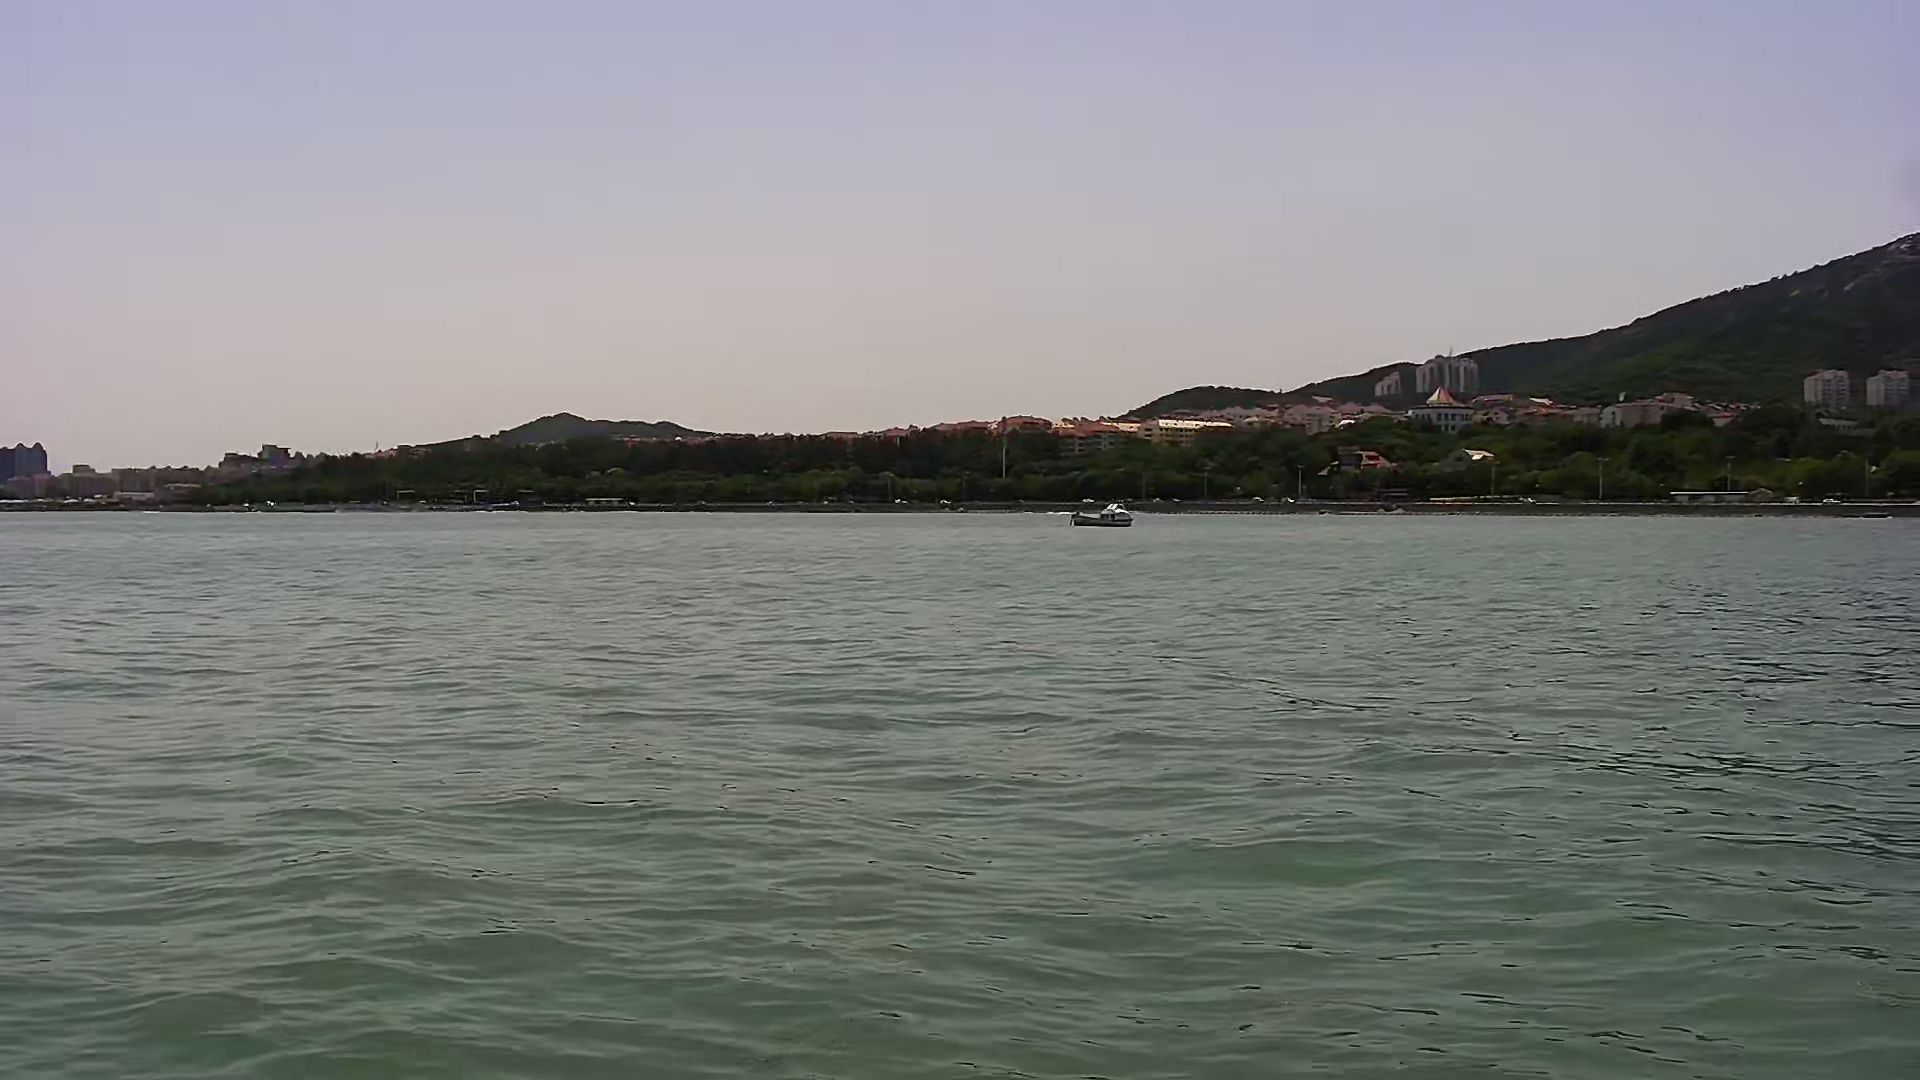ship: (1069, 501, 1138, 535)
